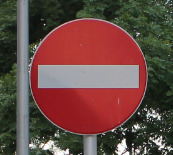no_entry: (29, 18, 147, 135)
